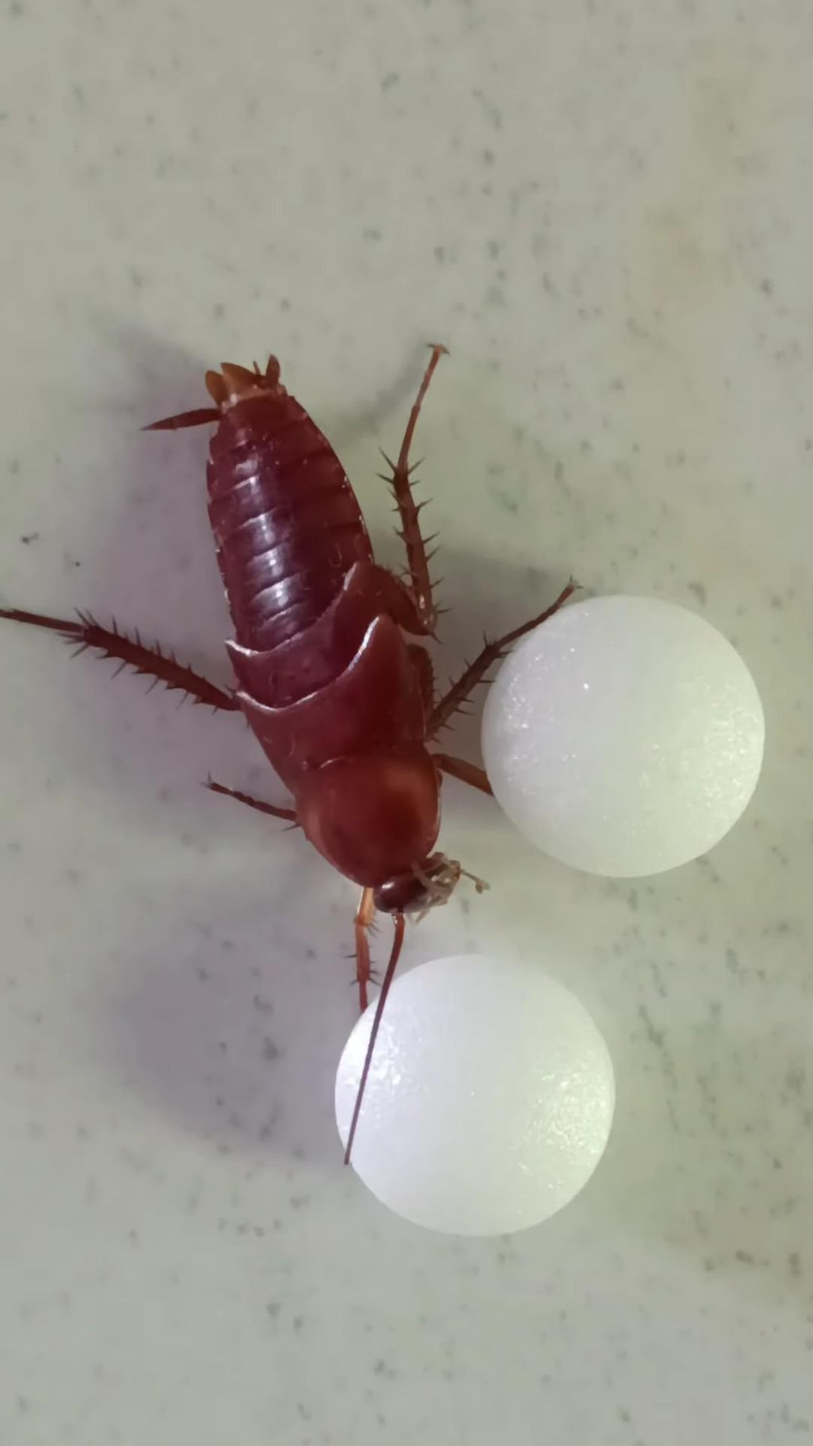cockroach: (0, 323, 481, 949)
